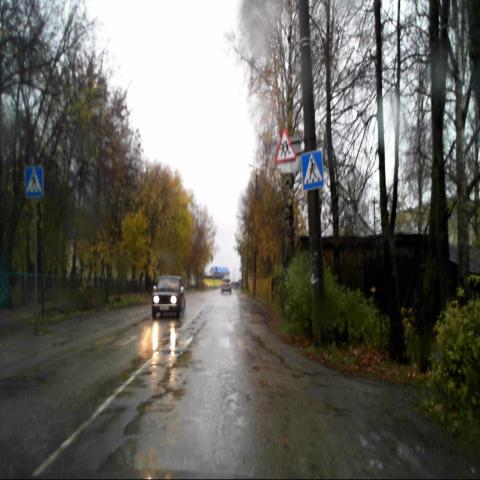1_23: (274, 127, 296, 163)
5_19_1: (300, 149, 324, 189), (24, 165, 44, 198)
